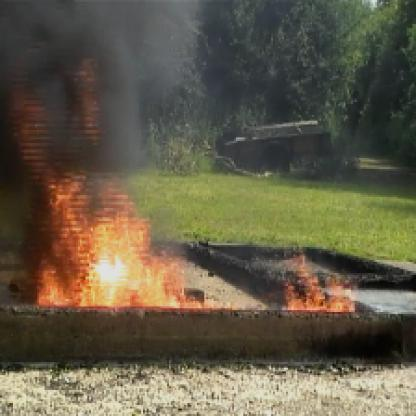Fire: (2, 141, 213, 318), (249, 243, 358, 318)
Smoke: (2, 2, 130, 173)
